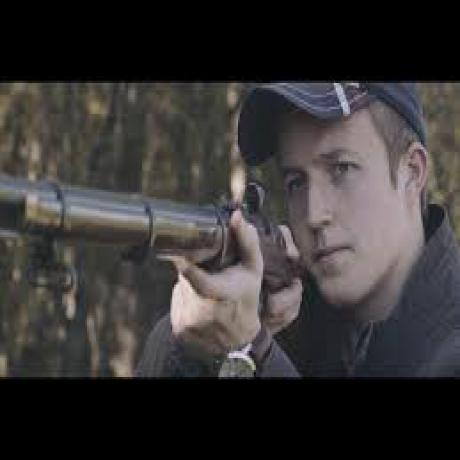Guns: (1, 156, 293, 306)
